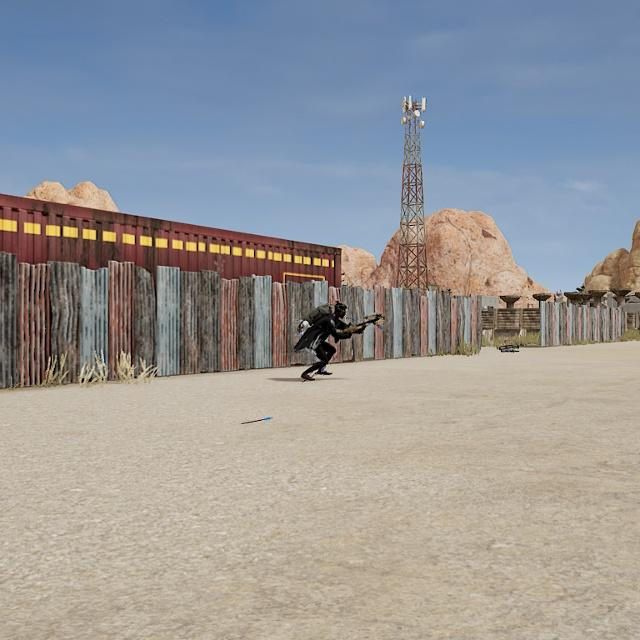head: (327, 294, 354, 324)
people: (282, 290, 372, 385)
